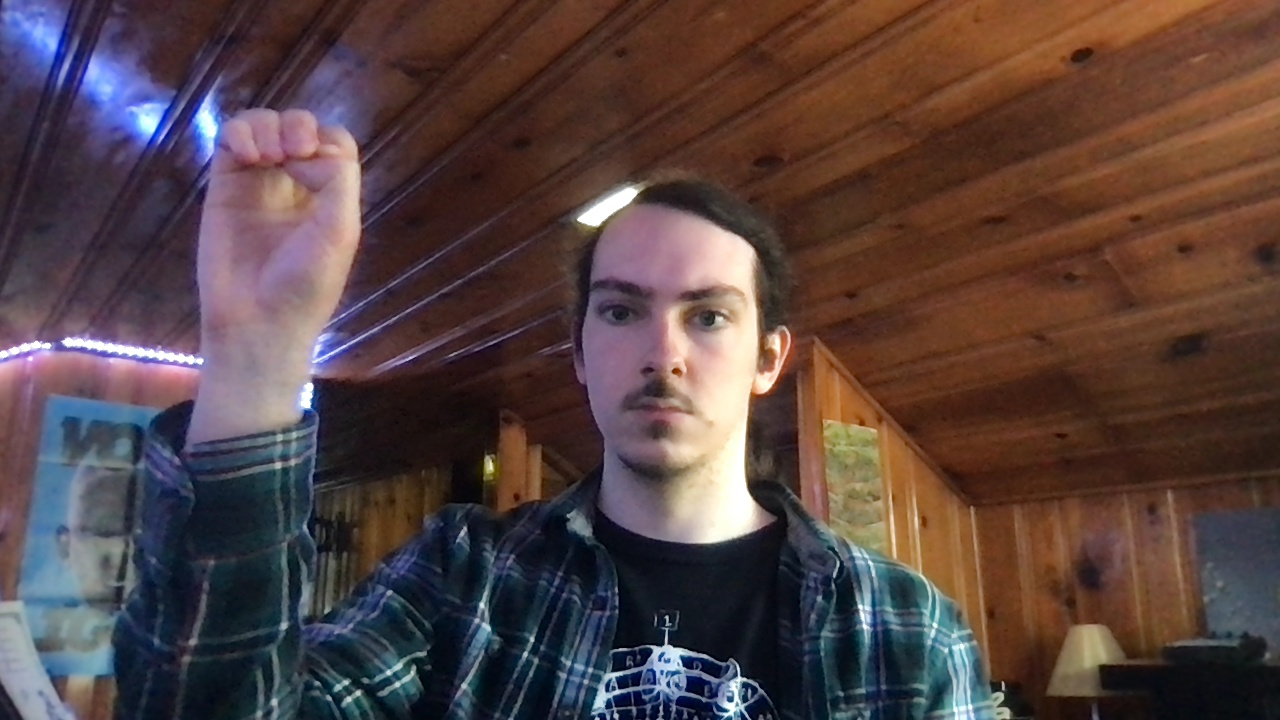e: (193, 104, 366, 332)
